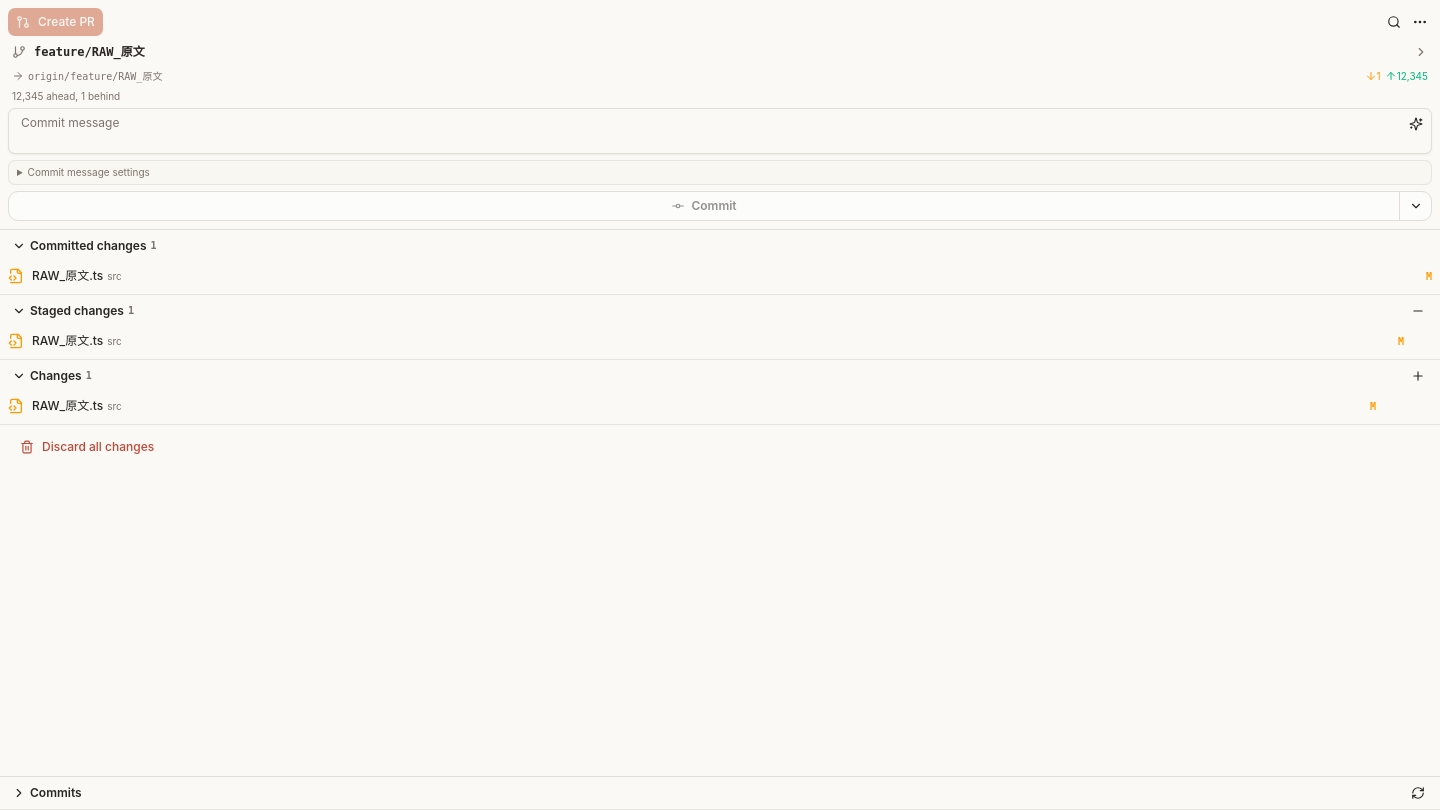
Test: WorkspaceGitTab i18n › sends the custom commit prompt to the generator
This screenshot has width=1440, height=810.
Click the heading "Commit message settings" at (89, 172), box [28,166,150,178]
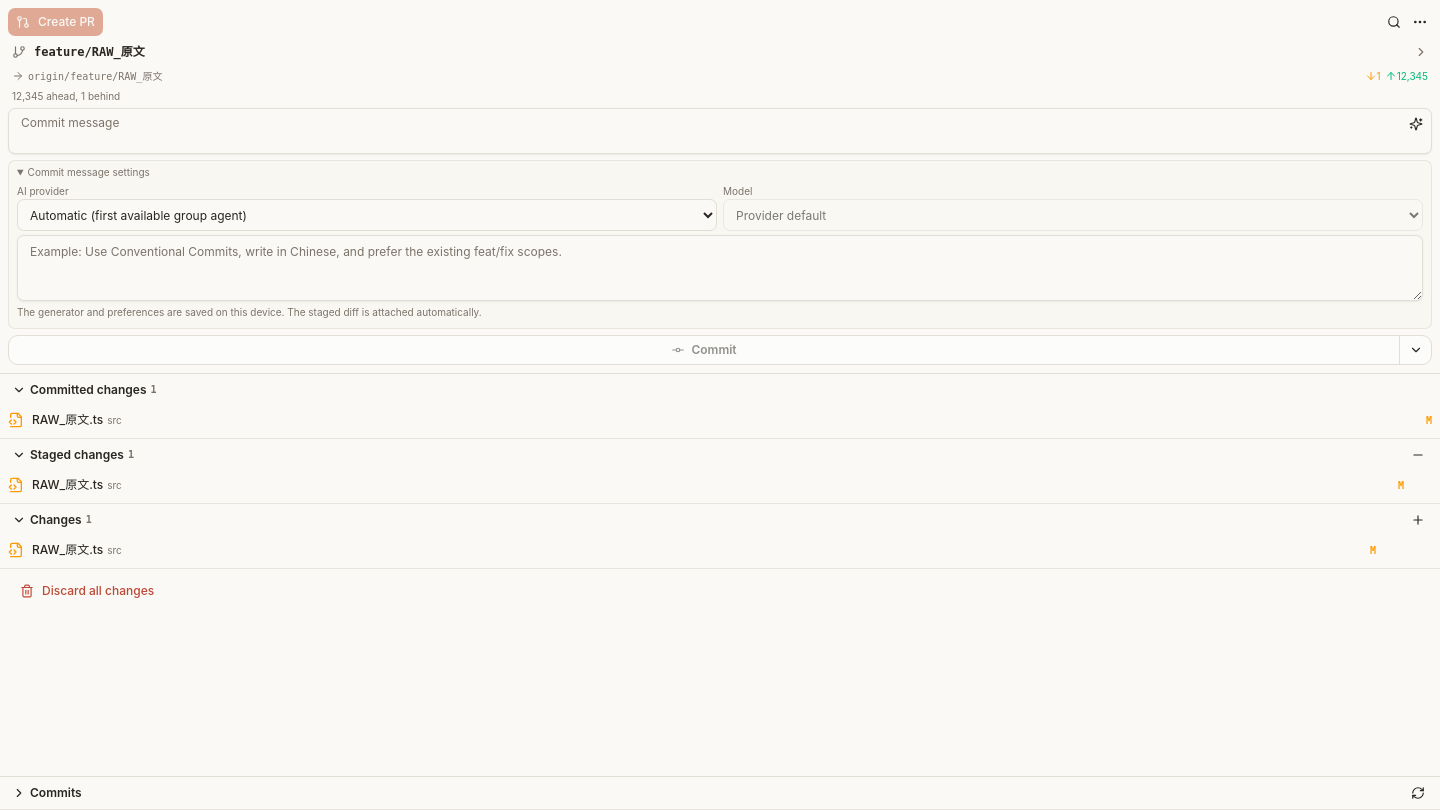
Replace the text in the text box named "Additional commit preferences" with "Use conventional commits with a scope." at (720, 268), box [17,235,1423,301]
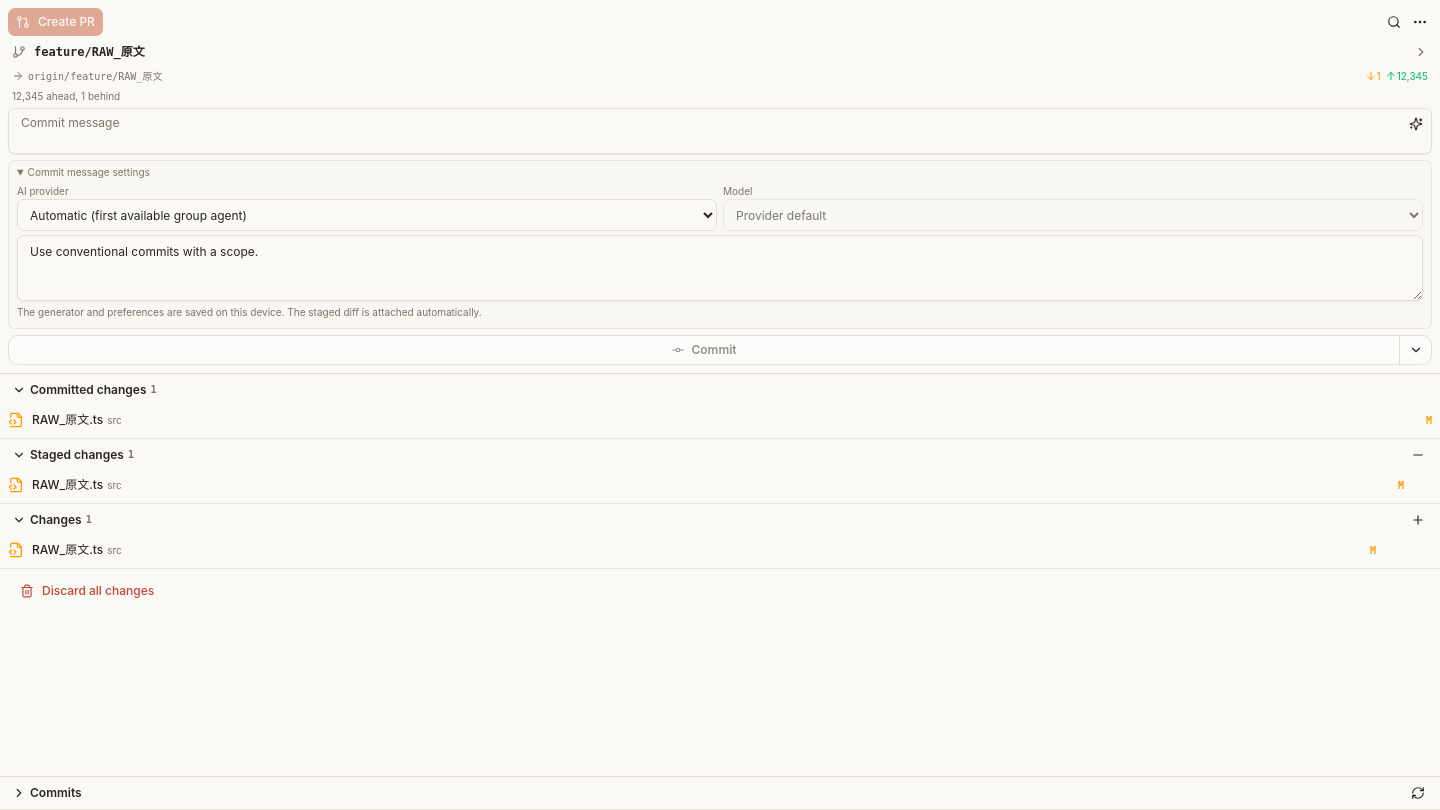
Click the button named "Generate commit message" at (1416, 124), box [1404,112,1428,136]
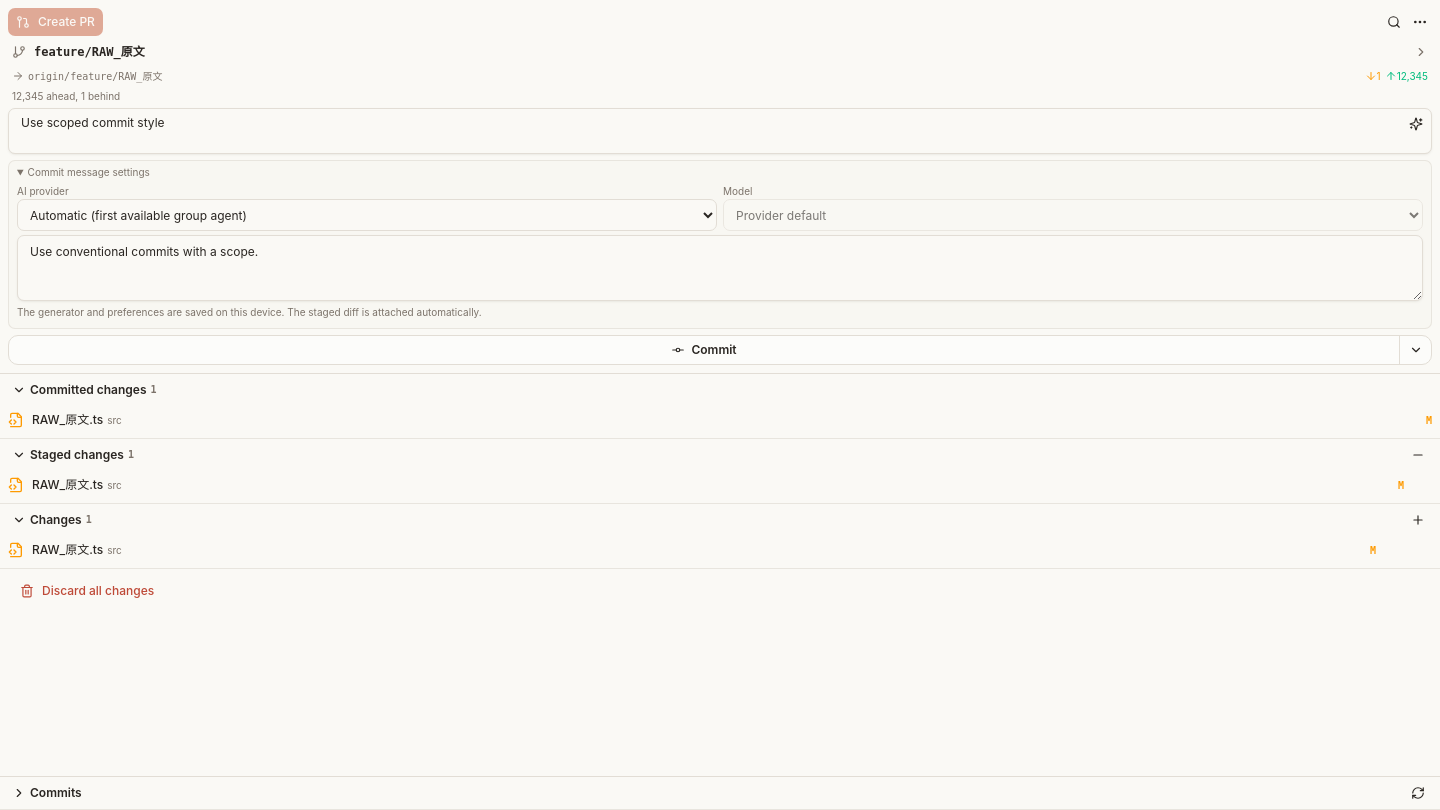
Result: the text box showing "Use scoped commit style" is shown at [8,108,1432,154]
